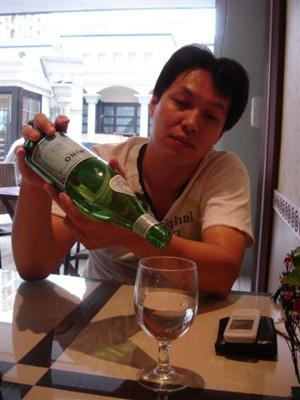person: (12, 43, 255, 301)
